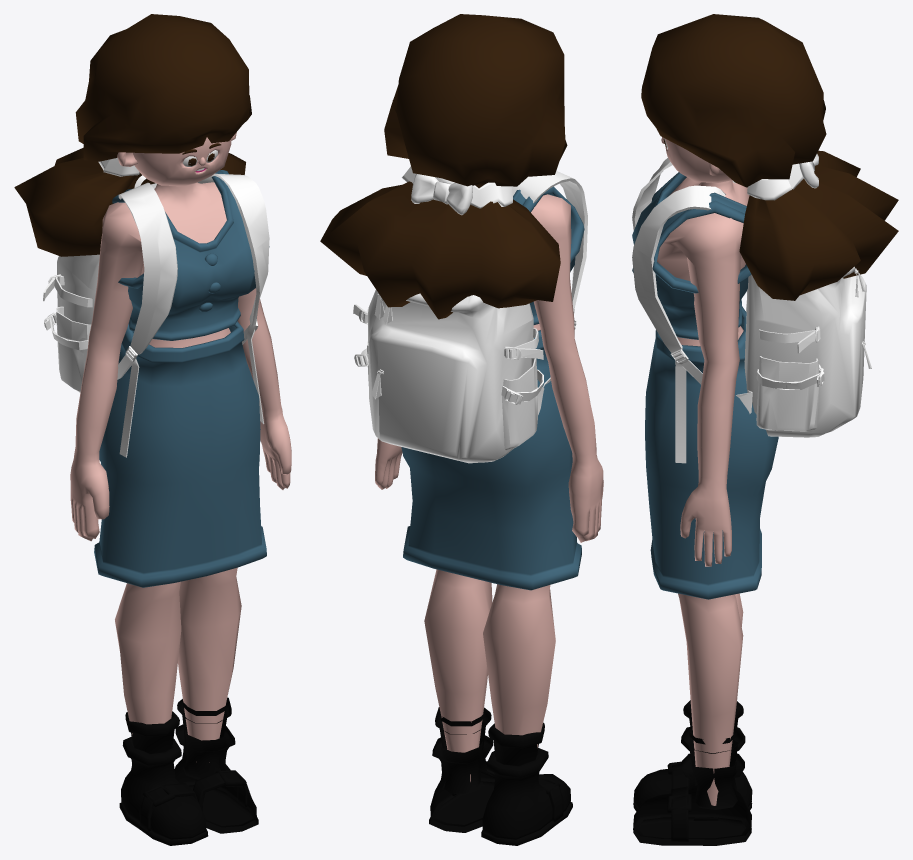
File: girl_standing.fbx
3 views of the same model, side by side, from view 1: azimuth 30°, elevation 25°; view 2: azimuth 150°, elevation 25°; view 3: azimuth 270°, elevation 25° (orthographic). The views are drawn at different scales.
Parts seen in each view (by area): view 1: Bag, Char_Tooth On; view 2: Bag; view 3: Bag, Char_Tooth On.
Boxes of the visible parts, <box> form: Bag: <box>14,14,291,845</box>; Char_Tooth On: <box>117,132,236,185</box>; Bag: <box>320,14,603,845</box>; Bag: <box>632,14,898,845</box>; Char_Tooth On: <box>661,137,732,182</box>.
Bounding box in the file's own units: 51.36 × 180 × 54.62.
